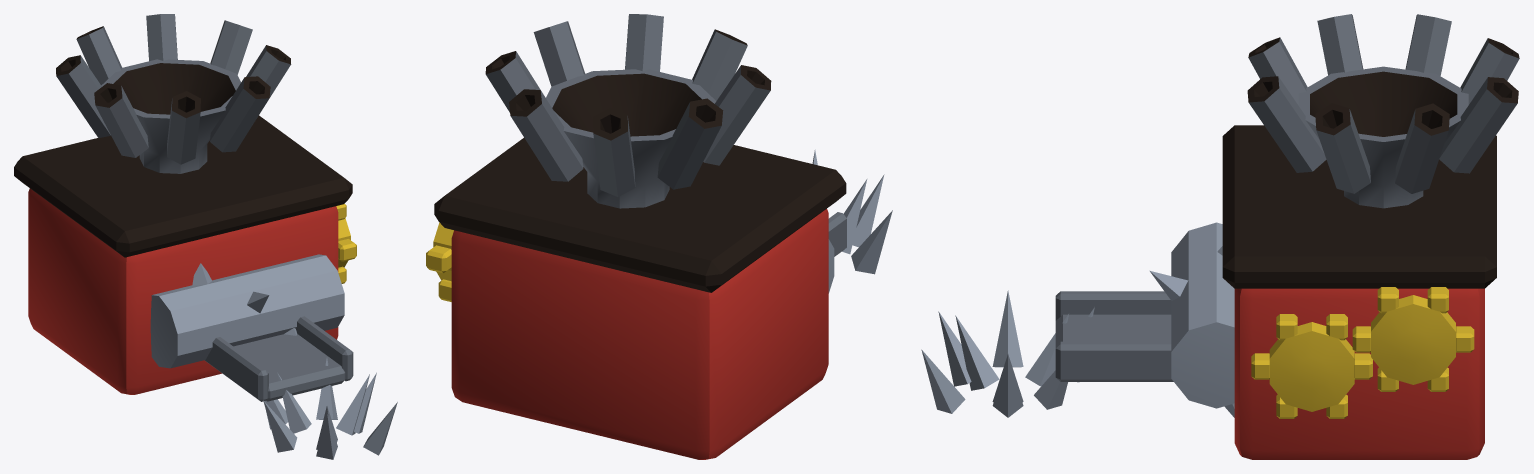
3 renders of one model, left to right at view 1: azimuth 30°, elevation 25°; view 2: azimuth 150°, elevation 25°; view 3: azimuth 270°, elevation 25°, orthographic. The views are drawn at different scales.
Parts seen in each view (by area): view 1: espinhos_0_base, espinhos_1_torreta; view 2: espinhos_0_base, espinhos_1_torreta; view 3: espinhos_0_base, espinhos_1_torreta.
Part boxes in pixels (left/top/right/bottom): espinhos_0_base: left=14, top=14, right=397, bottom=459; espinhos_1_torreta: left=204, top=316, right=353, bottom=401; espinhos_0_base: left=426, top=14, right=892, bottom=459; espinhos_1_torreta: left=828, top=212, right=846, bottom=256; espinhos_0_base: left=921, top=14, right=1519, bottom=459; espinhos_1_torreta: left=1055, top=291, right=1173, bottom=381.
Bounding box in the file's own units: 0.596 × 0.6331 × 1.
